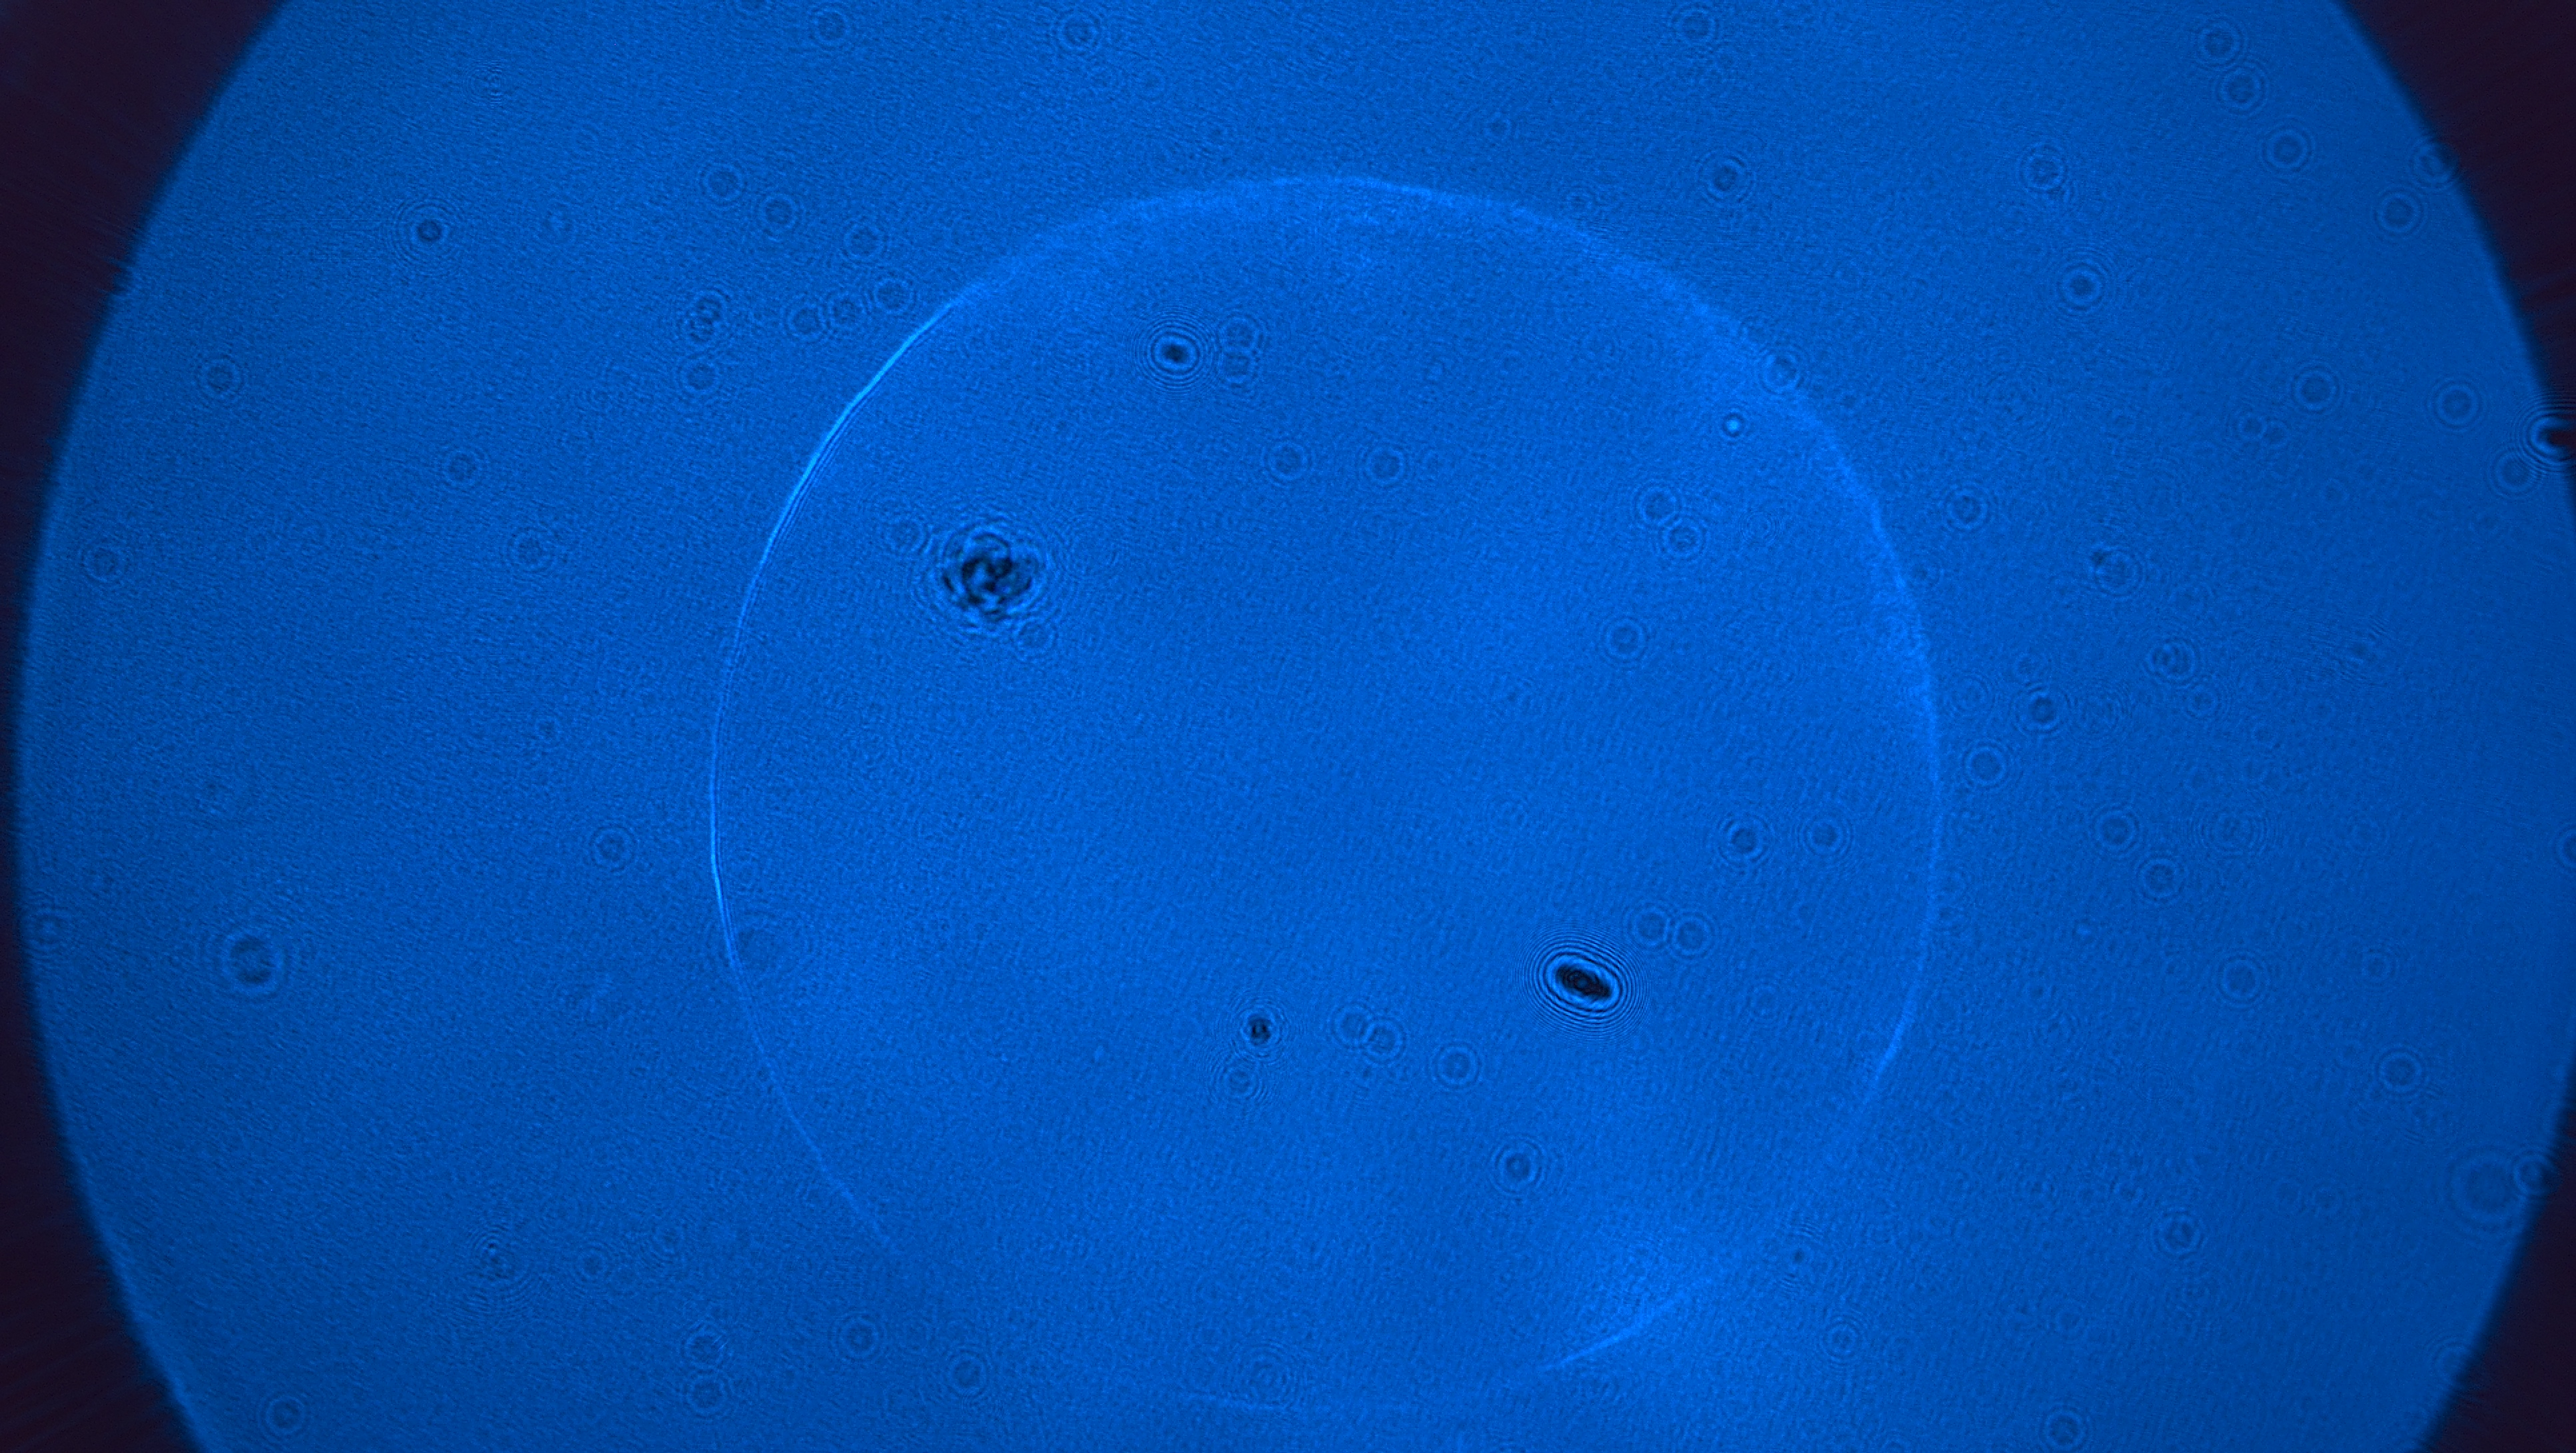bead: (1923, 473, 2008, 538), (1946, 734, 2020, 803), (683, 147, 754, 214), (1585, 605, 1656, 667), (1251, 434, 1327, 490), (1421, 1034, 1491, 1094), (2282, 359, 2355, 418), (246, 1386, 320, 1442), (2208, 949, 2277, 1009), (2028, 1396, 2098, 1453), (1619, 469, 1684, 527), (1355, 430, 1414, 494), (582, 821, 646, 880), (934, 1347, 1001, 1402), (2424, 373, 2488, 430), (671, 1313, 734, 1370), (2371, 184, 2431, 242), (2128, 853, 2194, 904), (2365, 1044, 2431, 1096), (2183, 19, 2254, 65), (833, 1310, 885, 1370), (188, 352, 249, 402), (2259, 122, 2323, 170), (2051, 260, 2111, 310), (435, 441, 492, 492), (2084, 805, 2144, 853), (78, 540, 138, 586), (1668, 910, 1720, 961), (681, 1372, 734, 1418)
dust: (203, 915, 295, 1012), (449, 1212, 534, 1288), (1697, 807, 1780, 873), (1138, 324, 1208, 386), (2141, 1209, 2217, 1265), (1221, 1000, 1284, 1065), (674, 290, 740, 340), (536, 200, 591, 255)
